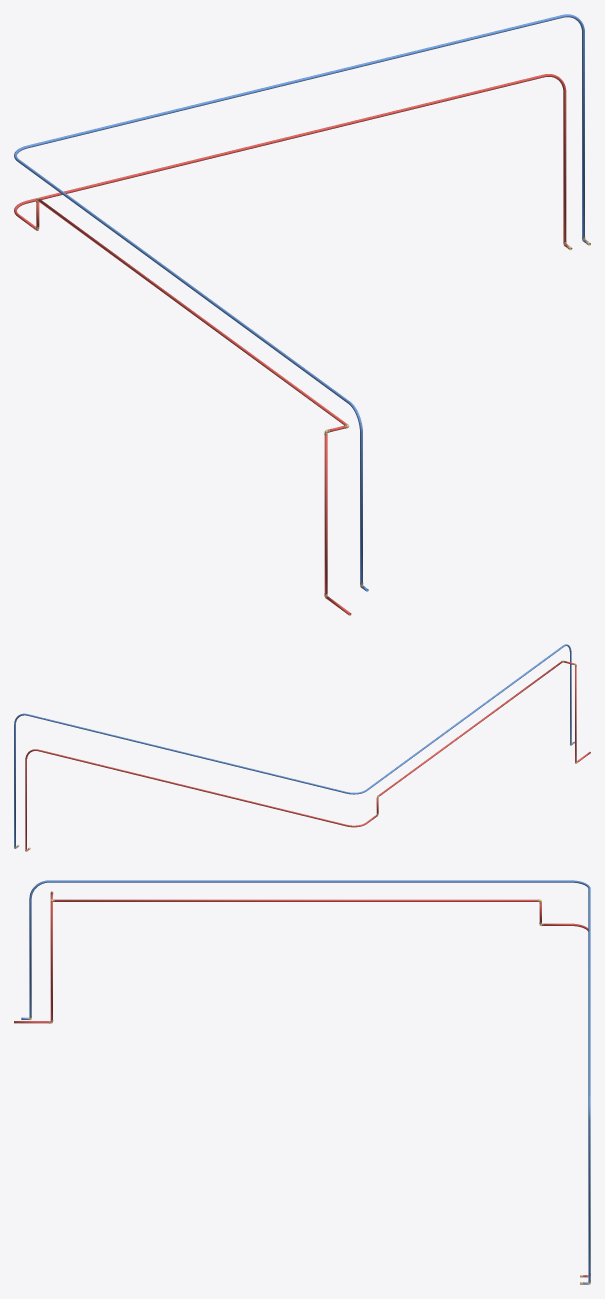
Rendered from slab_pipes_supply__water_heater-garage_electric_tankless_and_plumbing-pex+attic_repipe.glb.
The picture shows the model from 3 angles, top to bottom: view 1: azimuth 30°, elevation 25°; view 2: azimuth 150°, elevation 25°; view 3: azimuth 270°, elevation 25°; orthographic projection. The views are drawn at different scales.
Visible parts, largest first — view 1: pipe_supply_hot_wh_etankless__pex, pipe_supply_cold_wh_etankless__pex; view 2: pipe_supply_cold_wh_etankless__pex, pipe_supply_hot_wh_etankless__pex; view 3: pipe_supply_cold_wh_etankless__pex, pipe_supply_hot_wh_etankless__pex.
Boxes of the visible parts, x1,y1,x2,y2 form: pipe_supply_hot_wh_etankless__pex: [14, 74, 568, 615]; pipe_supply_cold_wh_etankless__pex: [14, 14, 587, 591]; pipe_supply_cold_wh_etankless__pex: [14, 644, 574, 847]; pipe_supply_hot_wh_etankless__pex: [25, 661, 590, 850]; pipe_supply_cold_wh_etankless__pex: [21, 880, 590, 1284]; pipe_supply_hot_wh_etankless__pex: [14, 892, 588, 1277].
Size of the model in its own units: 5.15 by 1.89 by 5.43.
